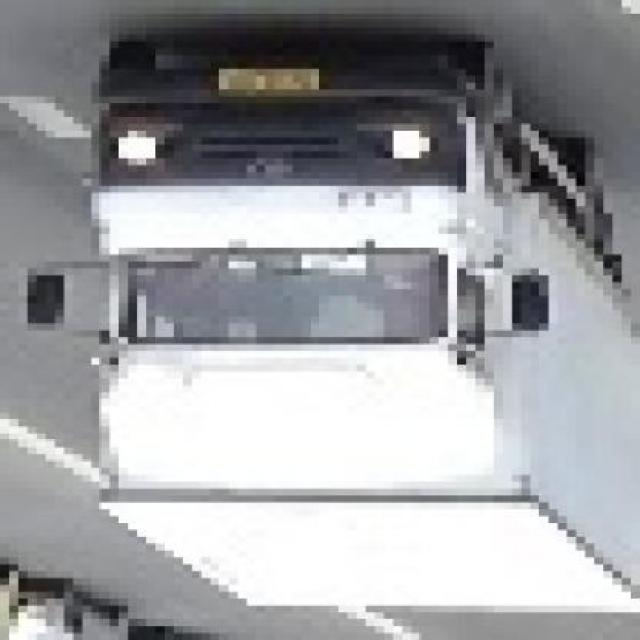truck: (29, 36, 640, 621)
